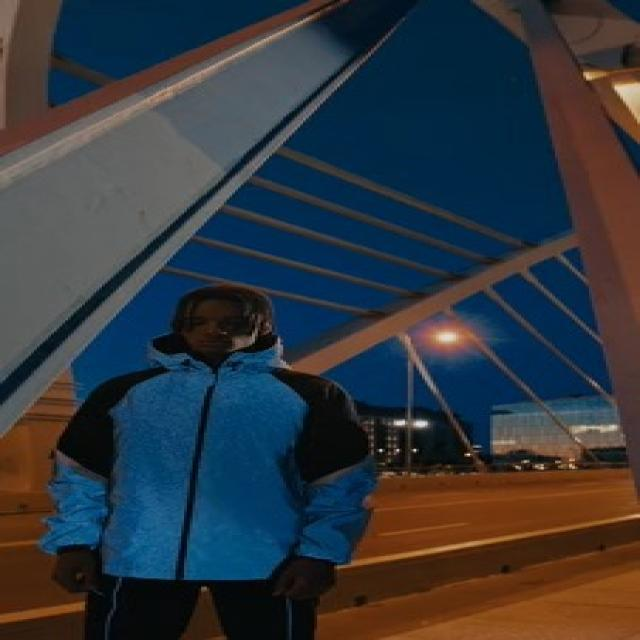Jacket_Wearer: (75, 354, 392, 623)
Person: (57, 279, 399, 640)
